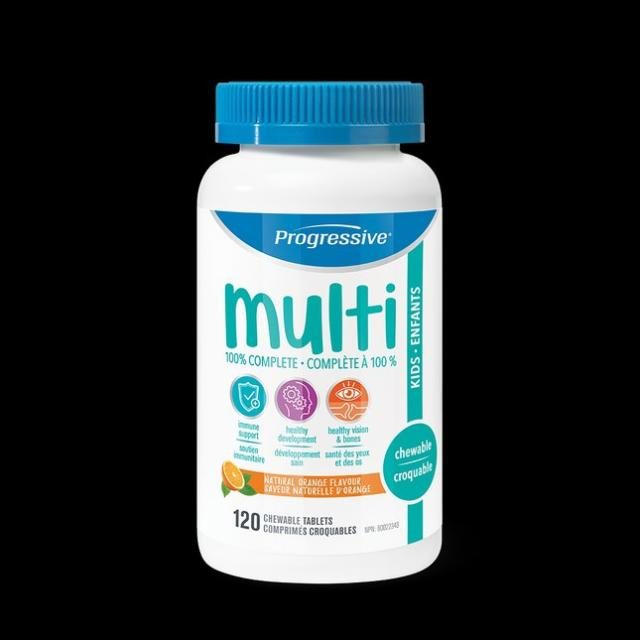medicine: (204, 175, 444, 568)
